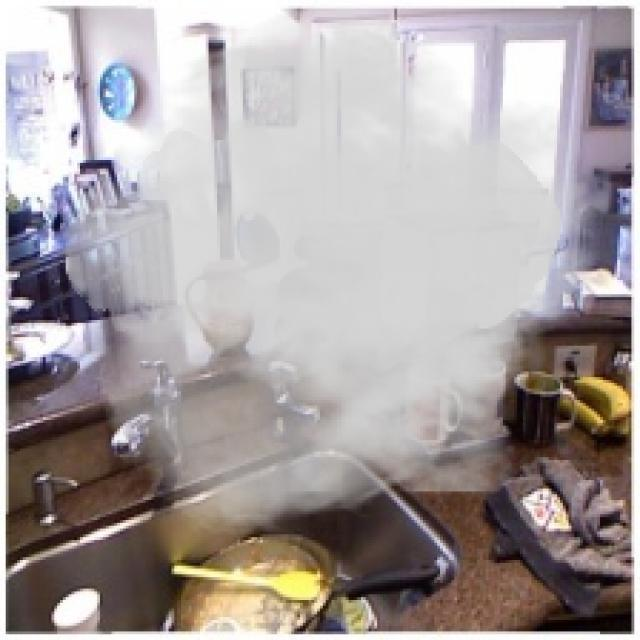Smoke: (62, 3, 618, 540)
